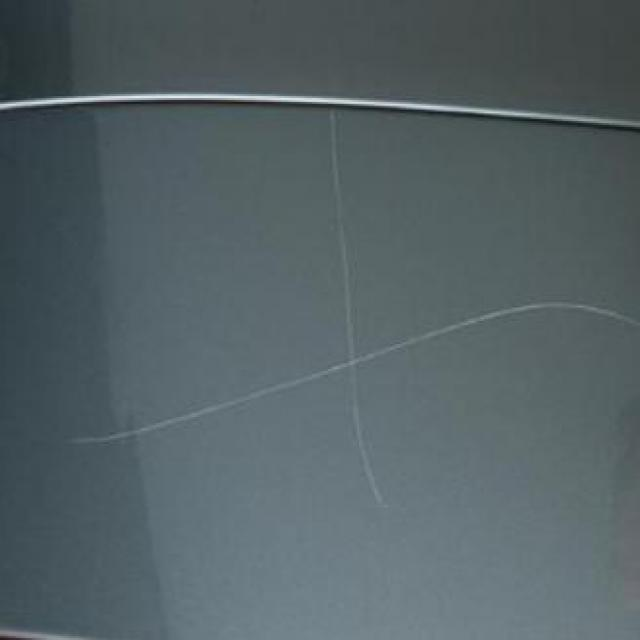scratch: (52, 278, 632, 458), (317, 91, 407, 518)
